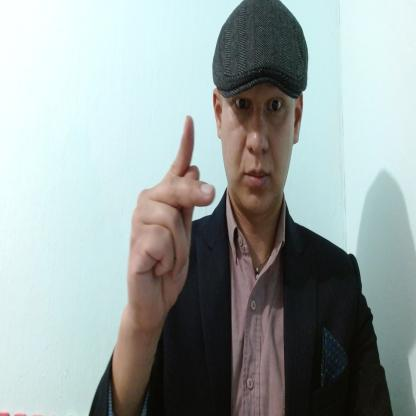P: (124, 111, 217, 324)
